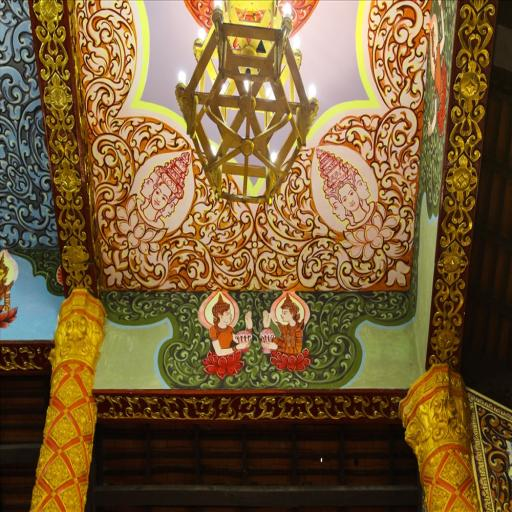hoa: (445, 150, 476, 207), (428, 311, 460, 366), (437, 232, 467, 288), (44, 72, 74, 126), (57, 236, 92, 282), (454, 62, 486, 112), (54, 160, 82, 204), (32, 0, 63, 34)
than: (135, 141, 194, 247), (310, 144, 372, 230), (200, 290, 246, 378), (264, 289, 306, 373)
